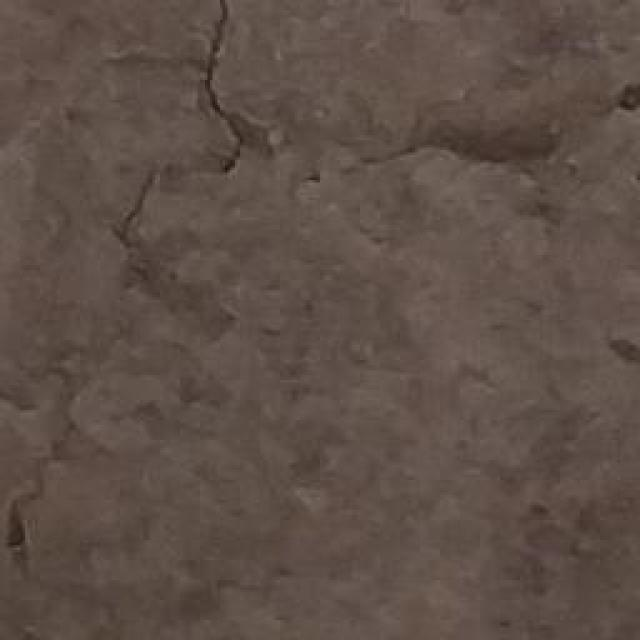Radial: (57, 0, 640, 343)
